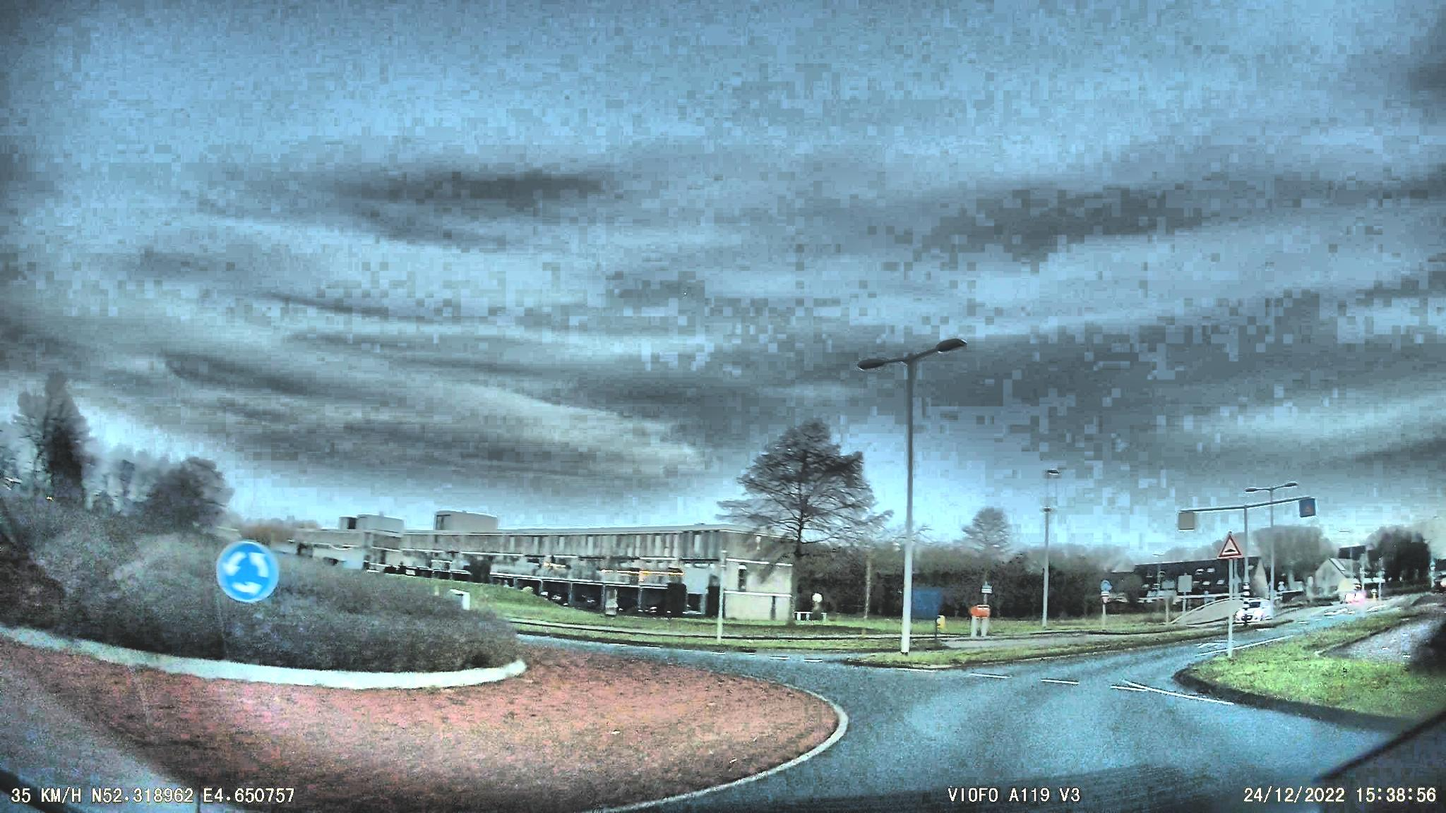Roads: (586, 644, 1446, 813)
